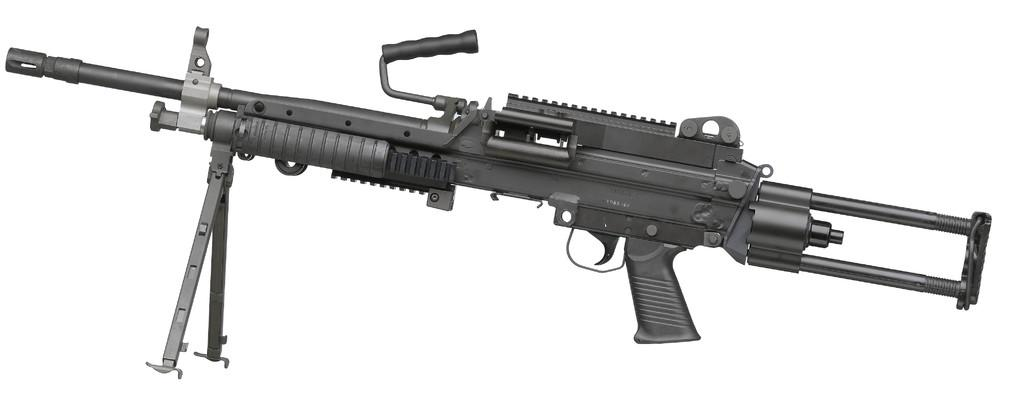Rifle: (5, 26, 992, 380)
